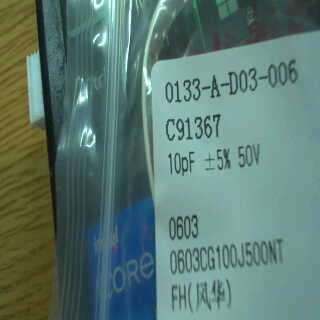10pF: (162, 146, 198, 179)
